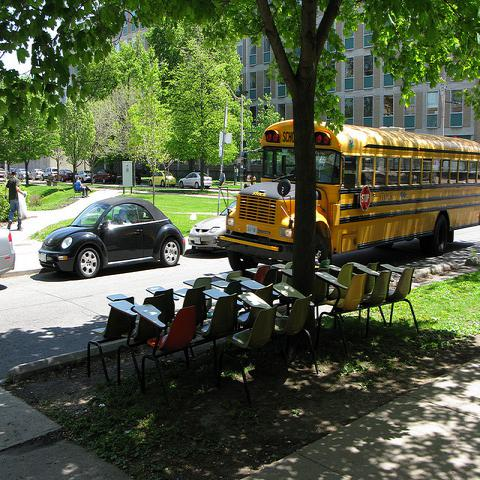bus: (313, 119, 479, 262)
car: (39, 195, 186, 279), (188, 200, 236, 251), (0, 226, 16, 275), (178, 171, 213, 189), (147, 168, 176, 188), (94, 169, 116, 184), (41, 167, 57, 181), (75, 170, 92, 182), (59, 170, 73, 182), (16, 168, 32, 178), (31, 168, 44, 180)
